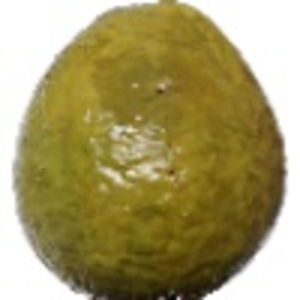goiaba: (10, 4, 292, 297)
